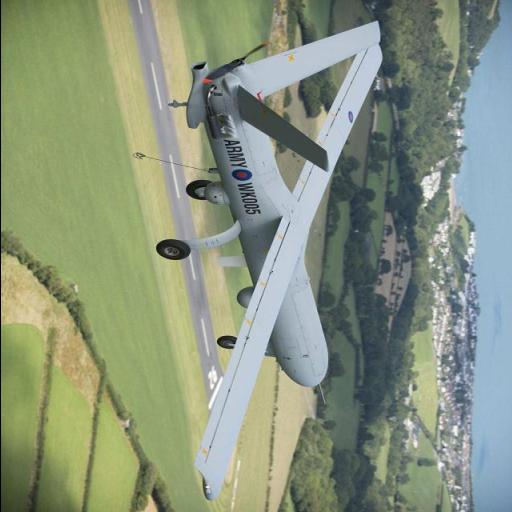uav: (152, 19, 398, 505)
